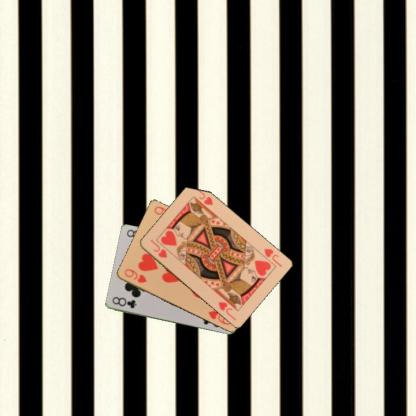8c: (109, 294, 138, 310)
9h: (122, 266, 147, 284)
Jh: (261, 246, 283, 268), (147, 237, 168, 259)
